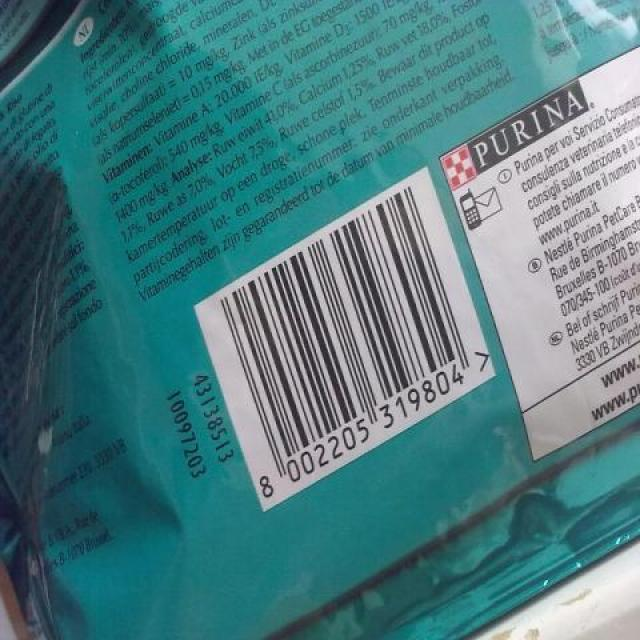Barcode: (193, 164, 496, 508)
